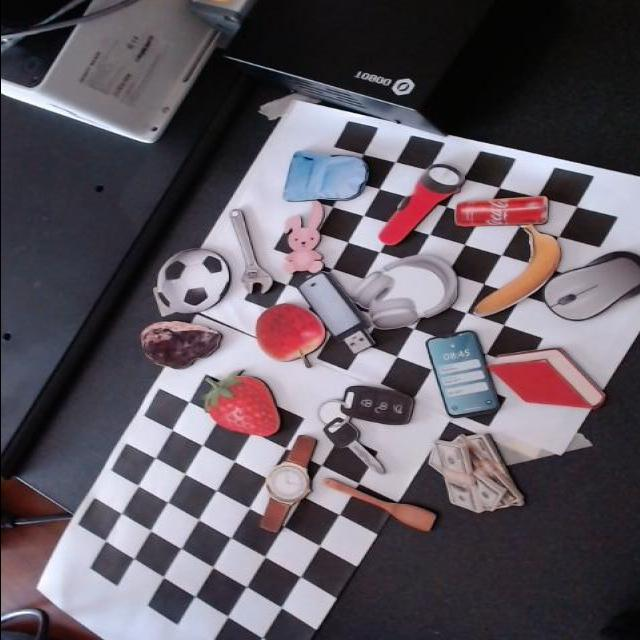Other Objects: (300, 376, 417, 475), (471, 224, 573, 330), (418, 427, 523, 523), (373, 159, 470, 256), (349, 254, 457, 331), (292, 269, 382, 358), (145, 243, 236, 326), (424, 331, 500, 419), (320, 478, 435, 533), (257, 436, 316, 534), (280, 151, 370, 208), (137, 321, 221, 371), (253, 304, 324, 363), (227, 210, 272, 296), (272, 201, 324, 275), (452, 196, 548, 228), (1, 639, 1, 640)
